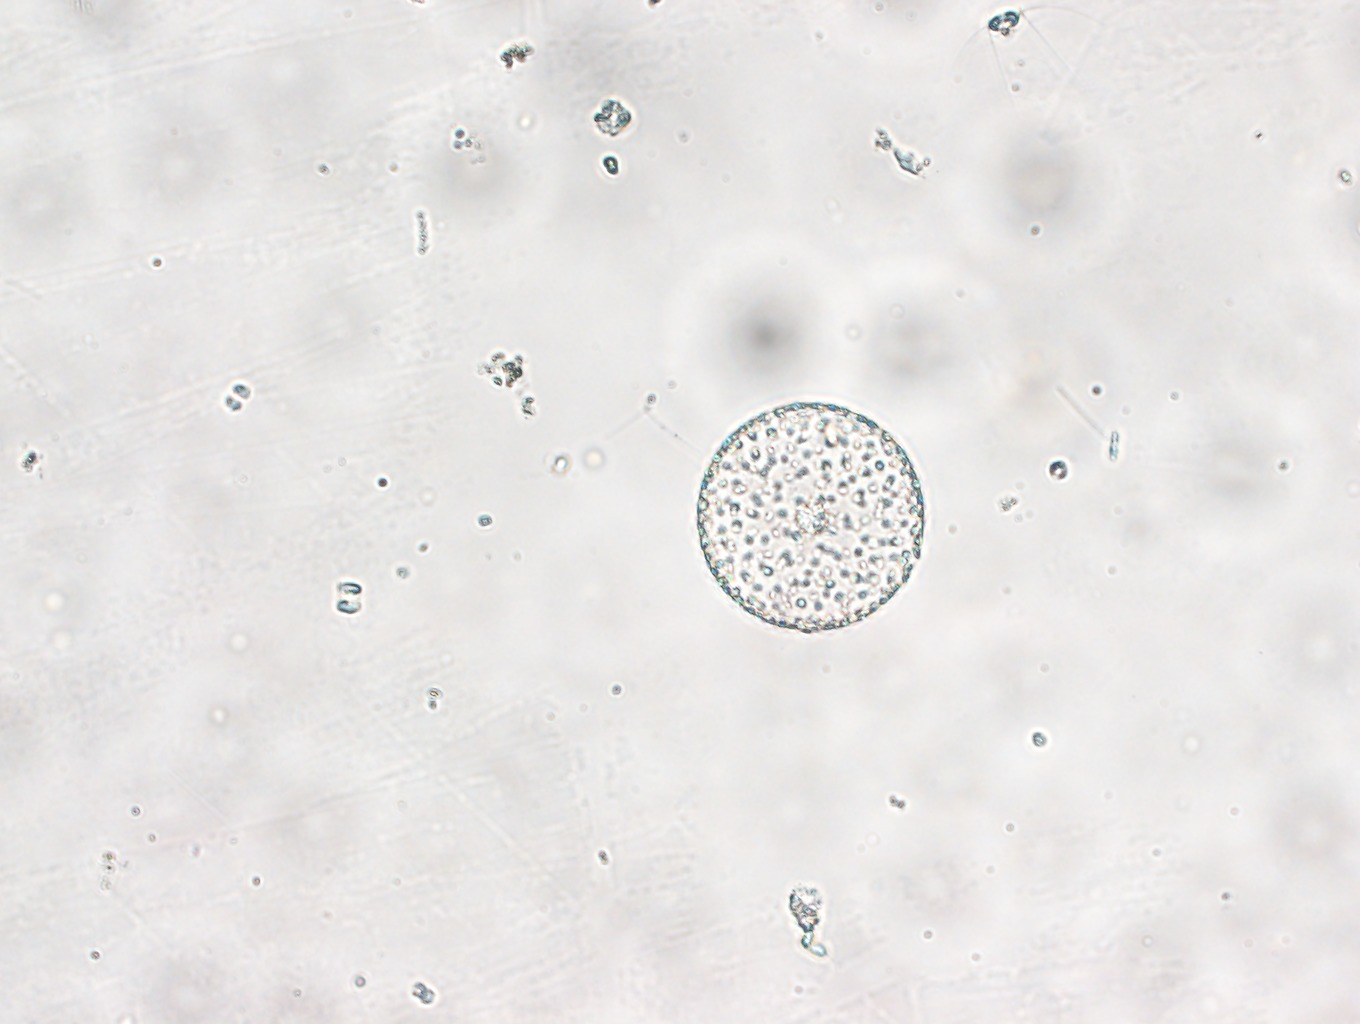coscinodiscus: (697, 402, 928, 636)
